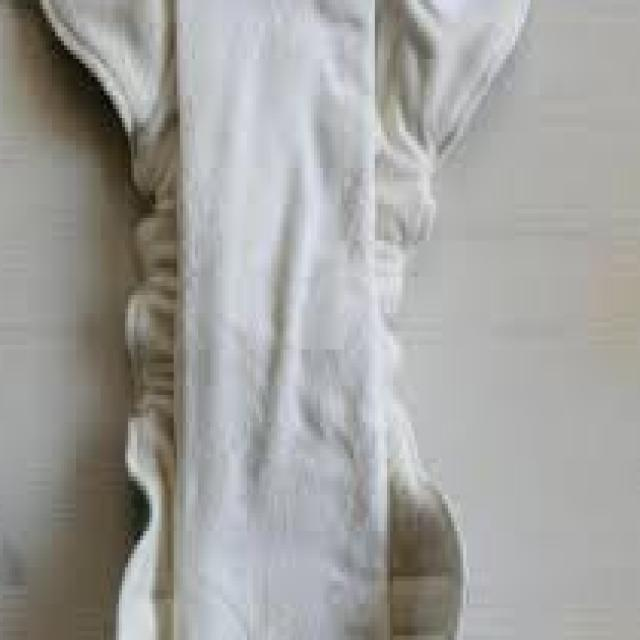organic: (35, 7, 504, 618)
